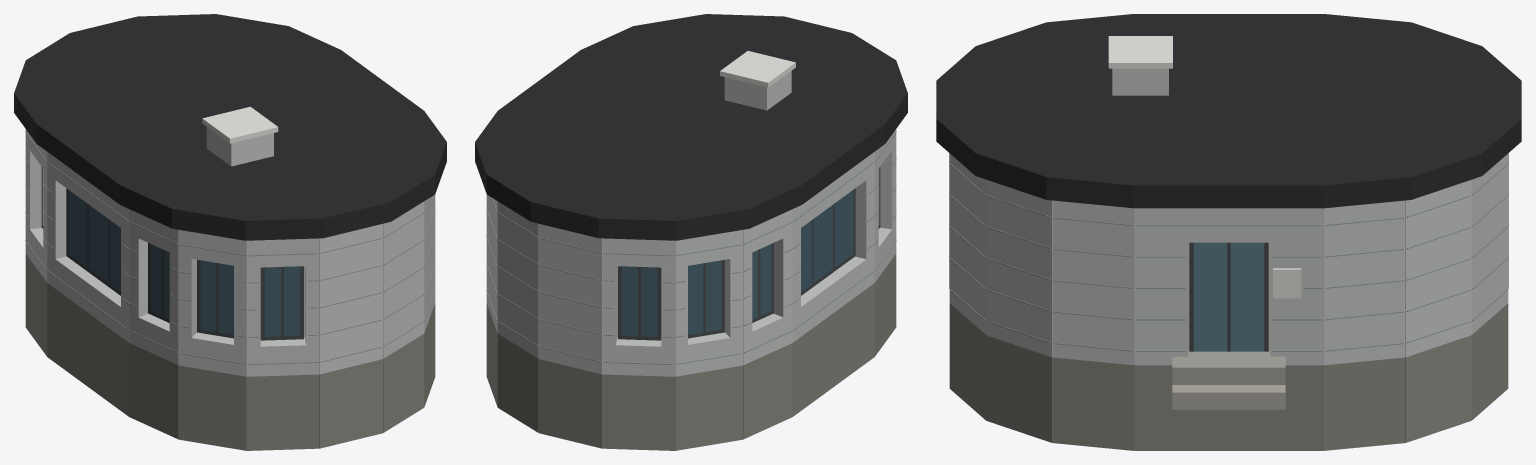
The picture shows the model from 3 angles, left to right: view 1: azimuth 30°, elevation 25°; view 2: azimuth 150°, elevation 25°; view 3: azimuth 270°, elevation 25°; orthographic projection. The views are drawn at different scales.
Visible parts, largest first — view 1: b31__black-edge, b31__grey-panel-wall, b31__plinth-stone-wall, b31__curved-glass, b31__frame, b31__panel-joint, b31__trim; view 2: b31__black-edge, b31__grey-panel-wall, b31__plinth-stone-wall, b31__curved-glass, b31__frame, b31__panel-joint, b31__trim; view 3: b31__black-edge, b31__grey-panel-wall, b31__plinth-stone-wall, b31__door-glass, b31__panel-joint, b31__entranceThreshold, b31__trim, b31__stone-step, b31__frame.
Part boxes in pixels (x1,y1,x2,y2): b31__black-edge: (14,14,446,240); b31__grey-panel-wall: (25,127,435,376); b31__plinth-stone-wall: (25,254,435,450); b31__curved-glass: (68,190,300,339); b31__frame: (41,167,303,340); b31__panel-joint: (25,131,435,364); b31__trim: (202,106,278,143); b31__black-edge: (475,14,907,240); b31__grey-panel-wall: (486,71,896,376); b31__plinth-stone-wall: (486,254,896,450); b31__curved-glass: (621,190,853,339); b31__frame: (618,167,880,340); b31__panel-joint: (486,131,896,364); b31__trim: (720,51,795,87); b31__black-edge: (936,14,1521,208); b31__grey-panel-wall: (949,68,1508,365); b31__plinth-stone-wall: (949,303,1508,450); b31__door-glass: (1193,242,1264,351); b31__panel-joint: (949,153,1508,351); b31__entranceThreshold: (1172,351,1285,384); b31__trim: (1108,36,1301,298); b31__stone-step: (1172,385,1285,409); b31__frame: (1189,242,1268,351).
Size of the model in its own units: 6.72 by 5.35 by 9.29.
